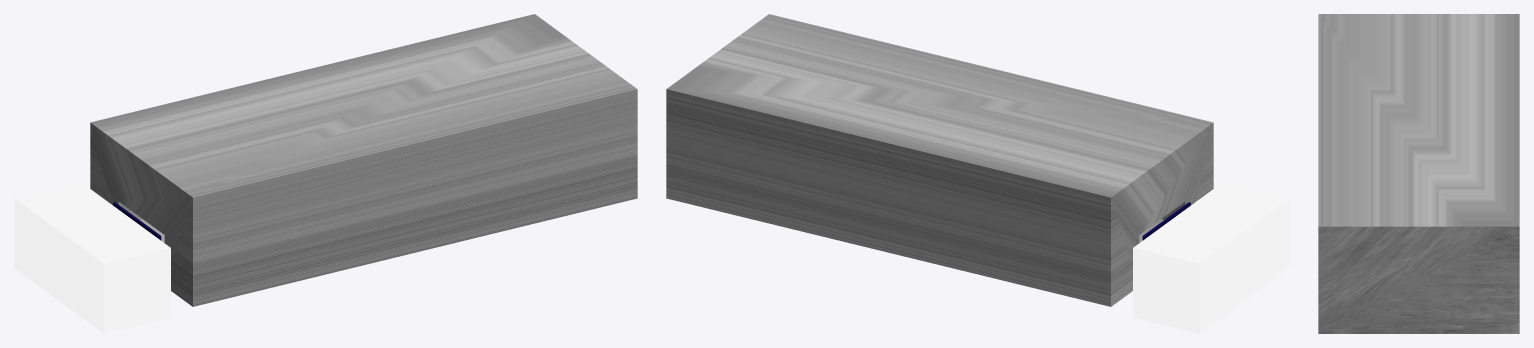
The model's file is Warehouse.glb.
3 views of the same model, side by side, from view 1: azimuth 30°, elevation 25°; view 2: azimuth 150°, elevation 25°; view 3: azimuth 270°, elevation 25° (orthographic).
Parts seen in each view (by area): view 1: Walls and Floor, "Outside"; view 2: Walls and Floor, "Outside"; view 3: Walls and Floor.
Boxes of the visible parts, x1,y1,x2,y2 form: Walls and Floor: [90, 14, 637, 306]; "Outside": [14, 182, 170, 333]; Walls and Floor: [666, 14, 1213, 306]; "Outside": [1133, 182, 1289, 333]; Walls and Floor: [1318, 14, 1519, 333].
Bounding box in the file's own units: 23.7 × 5.2 × 8.
Materials: 3 (1 with a texture image).
